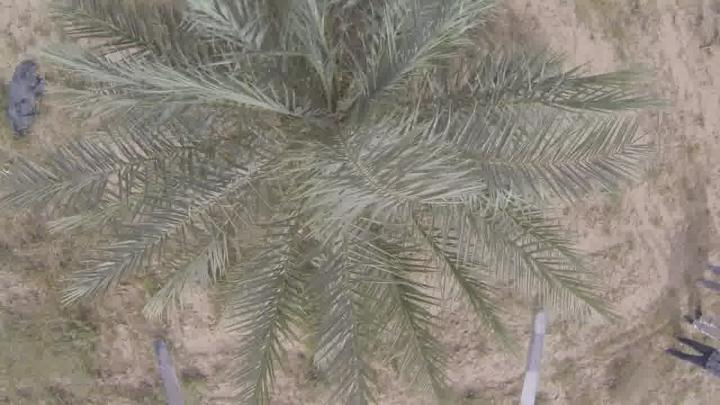Date-Palm-Crown: (174, 12, 482, 294)
